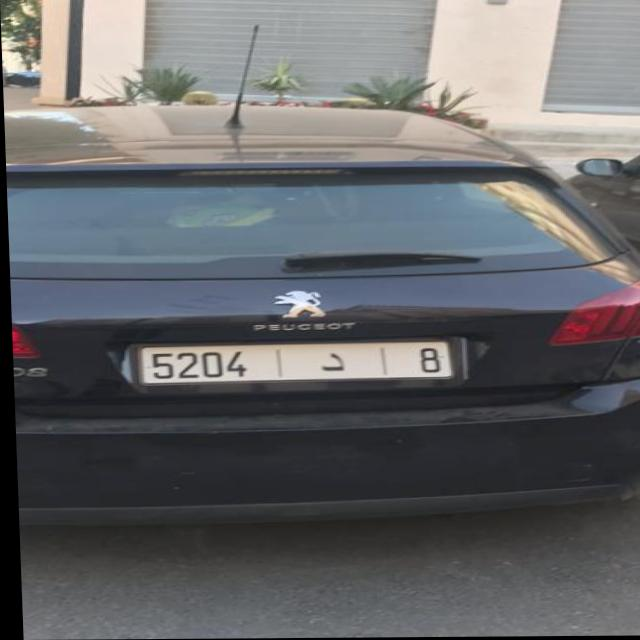License-Plate: (135, 341, 453, 385)
